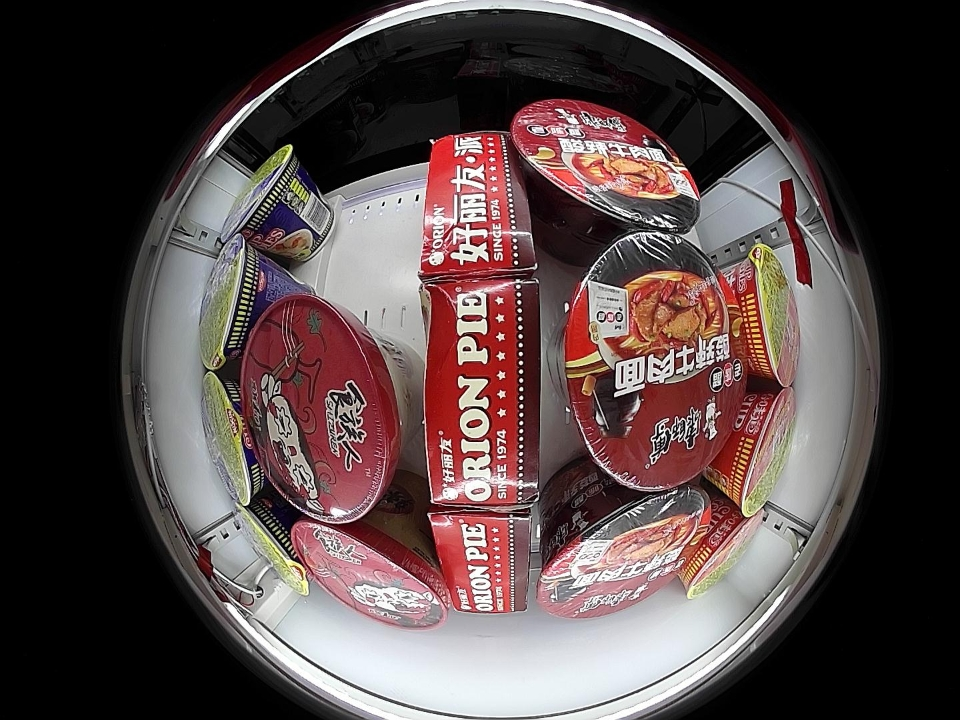haoliyou: (419, 276, 541, 509), (419, 132, 537, 279), (429, 505, 531, 615)
heweidao: (198, 235, 269, 372), (200, 370, 268, 507), (220, 145, 305, 246), (231, 497, 312, 597)
heweidao3: (720, 386, 797, 517), (733, 242, 801, 387), (681, 504, 764, 598)
suanlafen: (241, 293, 405, 523), (291, 516, 448, 631)
suanlaniurou: (558, 230, 746, 490), (512, 99, 701, 235), (537, 487, 710, 622)
